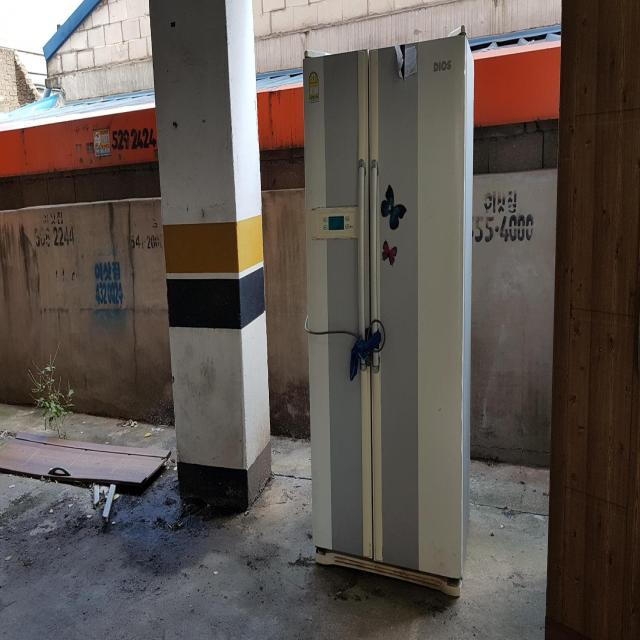refrigerator: (302, 24, 476, 602)
